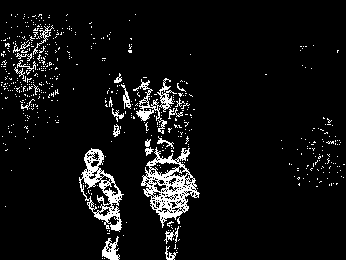person: (140, 141, 201, 260), (77, 147, 128, 260), (131, 74, 158, 146), (103, 71, 131, 140), (175, 76, 197, 161), (156, 75, 177, 140)
